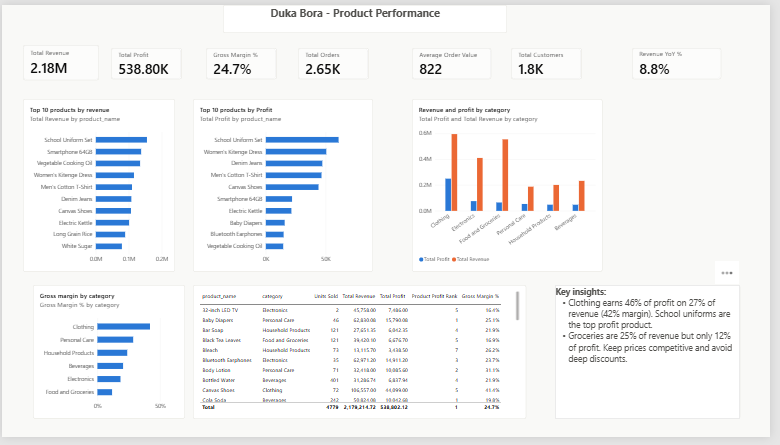

This screenshot's page, from the dashboard's own definition file:
{"tool":"powerbi","page":{"name":"Product Performance","canvas":[1920,1080],"ordinal":1},"visuals":[{"type":"textbox","box":[552,0,710,70],"z":0},{"type":"clusteredBarChart","title":"Top 10 products by revenue","fields":{"Category":["dim_product.product_name"],"Y":["_Measures.Total Revenue"]},"box":[52,234,380,432],"z":1000},{"type":"clusteredBarChart","title":"Top 10 products by Profit","fields":{"Category":["dim_product.product_name"],"Y":["_Measures.Total Profit"]},"box":[478,234,450,432],"z":2000},{"type":"clusteredColumnChart","title":"Revenue and profit by category","fields":{"Category":["dim_product.category"],"Y":["_Measures.Total Profit","_Measures.Total Revenue"]},"box":[1024,234,476,432],"z":3000},{"type":"clusteredBarChart","title":"Gross margin by category","fields":{"Category":["dim_product.category"],"Y":["_Measures.Gross Margin %"]},"box":[78,700,380,334],"z":4000},{"type":"tableEx","fields":{"Values":["dim_product.product_name","dim_product.category","_Measures.Units Sold","_Measures.Total Revenue","_Measures.Total Profit","_Measures.Product Profit Rank","_Measures.Gross Margin %"]},"box":[477.5,700,832.5,335],"z":5000},{"type":"textbox","box":[1382.5,700,462.5,335],"z":6000},{"type":"cardVisual","fields":{"Data":["_Measures.Total Revenue"]},"box":[52.5,100,190,87.5],"z":7000},{"type":"cardVisual","fields":{"Data":["_Measures.Total Customers"]},"box":[1272,107,176.7,78.3],"z":8000},{"type":"cardVisual","fields":{"Data":["_Measures.Total Orders"]},"box":[740,107,176.7,78.3],"z":9000},{"type":"cardVisual","fields":{"Data":["_Measures.Gross Margin %"]},"box":[510,107,176.7,78.3],"z":10000},{"type":"cardVisual","fields":{"Data":["_Measures.Total Profit"]},"box":[272,107,176.7,78.3],"z":11000},{"type":"cardVisual","fields":{"Data":["_Measures.Average Order Value"]},"box":[1024,107,198,78],"z":12000},{"type":"cardVisual","fields":{"Data":["_Measures.Revenue YoY %"]},"box":[1574,107,222.5,77.5],"z":13000}]}

Visuals, with their boxes in screenshot pixels (x1, y1, x2, y2), scaled from the page's 1920x1080 canvas onto the 780x445 screenshot:
textbox: 224, 0, 513, 29
"Top 10 products by revenue" clusteredBarChart: 21, 96, 176, 274
"Top 10 products by Profit" clusteredBarChart: 194, 96, 377, 274
"Revenue and profit by category" clusteredColumnChart: 416, 96, 609, 274
"Gross margin by category" clusteredBarChart: 32, 288, 186, 426
tableEx - dim_product.product_name x dim_product.category: 194, 288, 532, 426
textbox: 562, 288, 750, 426
cardVisual - _Measures.Total Revenue: 21, 41, 99, 77
cardVisual - _Measures.Total Customers: 517, 44, 589, 76
cardVisual - _Measures.Total Orders: 301, 44, 372, 76
cardVisual - _Measures.Gross Margin %: 207, 44, 279, 76
cardVisual - _Measures.Total Profit: 110, 44, 182, 76
cardVisual - _Measures.Average Order Value: 416, 44, 496, 76
cardVisual - _Measures.Revenue YoY %: 639, 44, 730, 76
